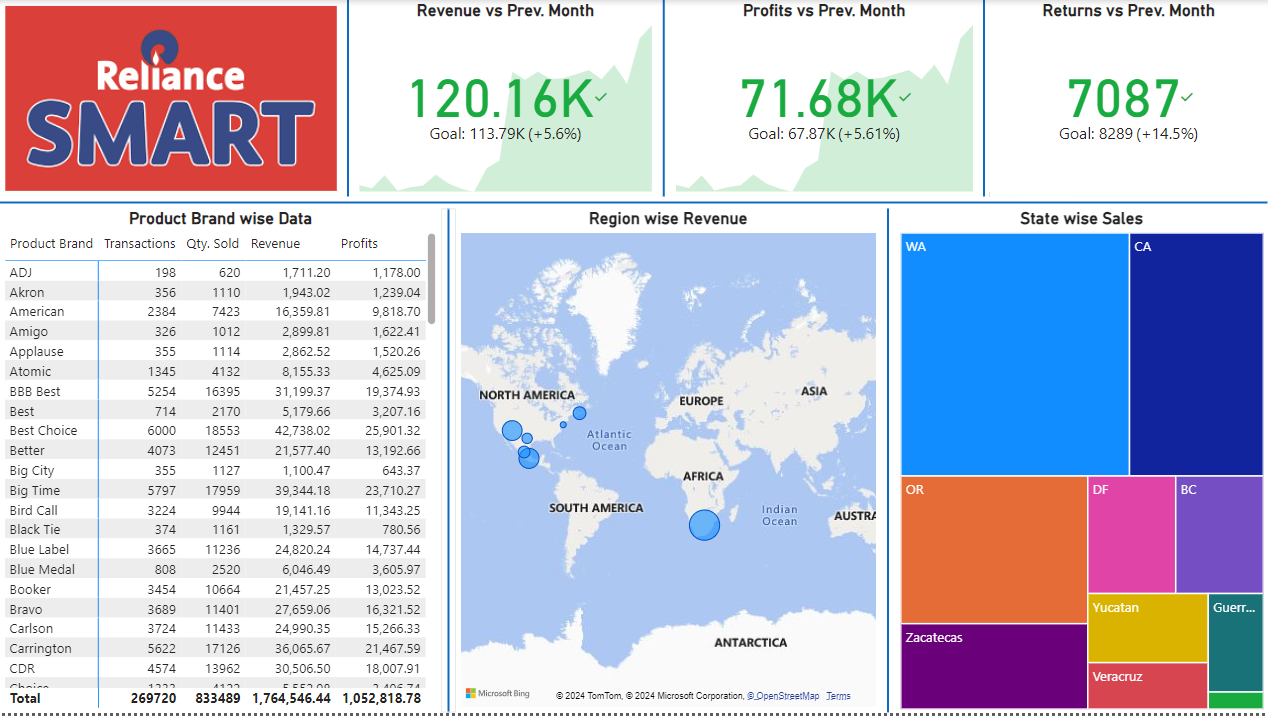

Layout of this report page (visuals, bound fields, positions):
{"tool":"powerbi","page":{"name":"Primary Report","canvas":[1280,720],"ordinal":0},"visuals":[{"type":"image","box":[0,0,345.2,198.4],"z":0},{"type":"shape","box":[0,198.4,1279.5,12.1],"z":1000},{"type":"pivotTable","title":"Product Brand wise Data","fields":{"Rows":["d_Products.product_brand"],"Values":["Measures (2).M_Total_Transactions","Measures (2).M_Quantity_Sold","Measures (2).M_Total_Revenue","Measures (2).M_Total_Profit"]},"box":[0,210.5,445.2,508.8],"z":2000},{"type":"shape","box":[445.2,210.5,15.1,508.8],"z":3000},{"type":"map","title":"Region wise Revenue","fields":{"Category":["d_Regions.sales_region"],"Size":["Measures (2).M_Total_Revenue"]},"box":[460.3,210.5,428.5,508.8],"z":4000},{"type":"shape","box":[888.8,210.5,15.1,508.8],"z":5000},{"type":"treemap","title":"State wise Sales","fields":{"Group":["d_Stores.store_state"],"Values":["Measures (2).M_Total_Transactions"]},"box":[904,210,376,510],"z":6000},{"type":"shape","box":[345.2,0,12.1,198.4],"z":7000},{"type":"kpi","title":"Revenue vs Prev. Month","fields":{"Indicator":["Measures (2).M_Total_Revenue"],"TrendLine":["d_Calendar.Start of Month"],"Goal":["Measures (2).M_Previous_Month_Revenue"]},"box":[357.4,0,305.9,198.4],"z":8000},{"type":"shape","box":[663.2,0,13.6,198.4],"z":9000},{"type":"kpi","title":"Profits vs Prev. Month","fields":{"TrendLine":["d_Calendar.Start of Month"],"Goal":["Measures (2).M_Previous_Month_Profit"],"Indicator":["Measures (2).M_Total_Profit"]},"box":[676.8,0,310.4,198.4],"z":10000},{"type":"shape","box":[987.3,0,12.1,198.4],"z":11000},{"type":"kpi","title":"Returns vs Prev. Month","box":[999.4,0,280.1,198.4],"z":12000},{"type":"kpi","title":"Profits vs Prev. Month","box":[998.3,0,281.7,198.3],"z":13000},{"type":"kpi","title":"Returns vs Prev. Month","fields":{"TrendLine":["d_Calendar.Start of Month"],"Indicator":["Measures (2).M_Total_Returns"],"Goal":["Measures (2).M_Previous_Month_Returns"]},"box":[1000,0,280,198.3],"z":13001}]}

Visuals, with their boxes in screenshot pixels (x1, y1, x2, y2), scaled from the page's 1280x720 canvas onto the 1268x717 screenshot:
image: [x1=0, y1=0, x2=342, y2=198]
shape: [x1=0, y1=198, x2=1267, y2=210]
"Product Brand wise Data" pivotTable: [x1=0, y1=210, x2=441, y2=716]
shape: [x1=441, y1=210, x2=456, y2=716]
"Region wise Revenue" map: [x1=456, y1=210, x2=880, y2=716]
shape: [x1=880, y1=210, x2=895, y2=716]
"State wise Sales" treemap: [x1=896, y1=209, x2=1267, y2=716]
shape: [x1=342, y1=0, x2=354, y2=198]
"Revenue vs Prev. Month" kpi: [x1=354, y1=0, x2=657, y2=198]
shape: [x1=657, y1=0, x2=670, y2=198]
"Profits vs Prev. Month" kpi: [x1=670, y1=0, x2=978, y2=198]
shape: [x1=978, y1=0, x2=990, y2=198]
"Returns vs Prev. Month" kpi: [x1=990, y1=0, x2=1267, y2=198]
"Profits vs Prev. Month" kpi: [x1=989, y1=0, x2=1267, y2=197]
"Returns vs Prev. Month" kpi: [x1=991, y1=0, x2=1267, y2=197]
